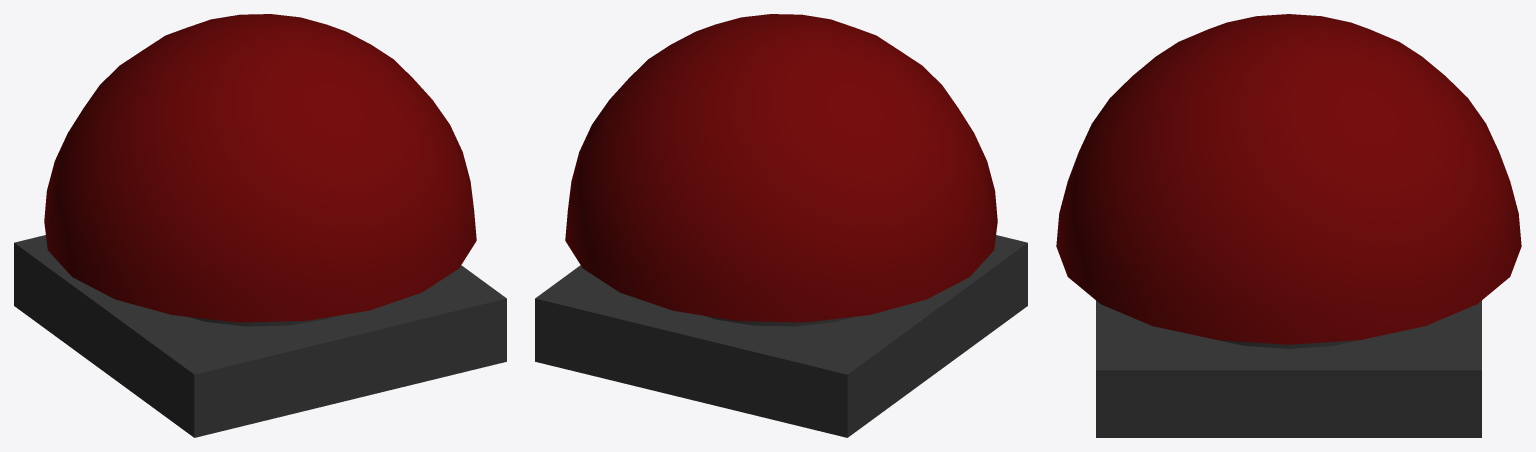
The model's file is red_button.fbx.
3 renders of one model, left to right at view 1: azimuth 30°, elevation 25°; view 2: azimuth 150°, elevation 25°; view 3: azimuth 270°, elevation 25°, orthographic. The views are drawn at different scales.
Visible parts, largest first — view 1: pSphere1, pCube1, pCylinder1; view 2: pSphere1, pCube1, pCylinder1; view 3: pSphere1, pCube1, pCylinder1.
Boxes of the visible parts, bbox=[...] form: pSphere1: bbox=[44, 14, 476, 322]; pCube1: bbox=[14, 235, 506, 437]; pCylinder1: bbox=[189, 316, 335, 326]; pSphere1: bbox=[565, 14, 997, 322]; pCube1: bbox=[535, 235, 1027, 437]; pCylinder1: bbox=[706, 316, 852, 326]; pSphere1: bbox=[1056, 14, 1521, 344]; pCube1: bbox=[1096, 300, 1481, 437]; pCylinder1: bbox=[1218, 340, 1359, 348].
Size of the model in its own units: 2.45 by 1.87 by 2.45.
